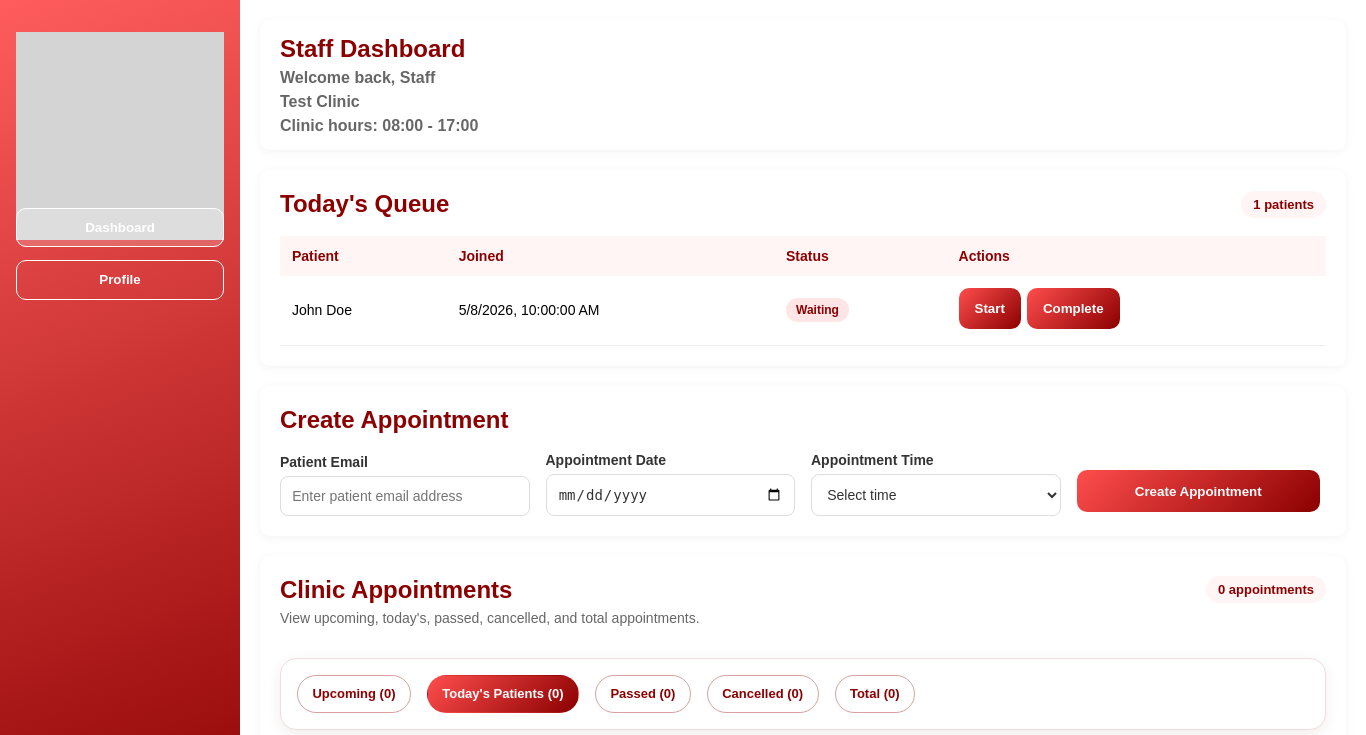
Scenario: StaffDashboard › shows queue update error message
Expected: the text "John Doe" is shown, [280, 276, 447, 345]
What coordinates should you click on to do the following:
click the button "Start"
I would click on:
 (990, 308)
Its box is [958, 288, 1021, 329].
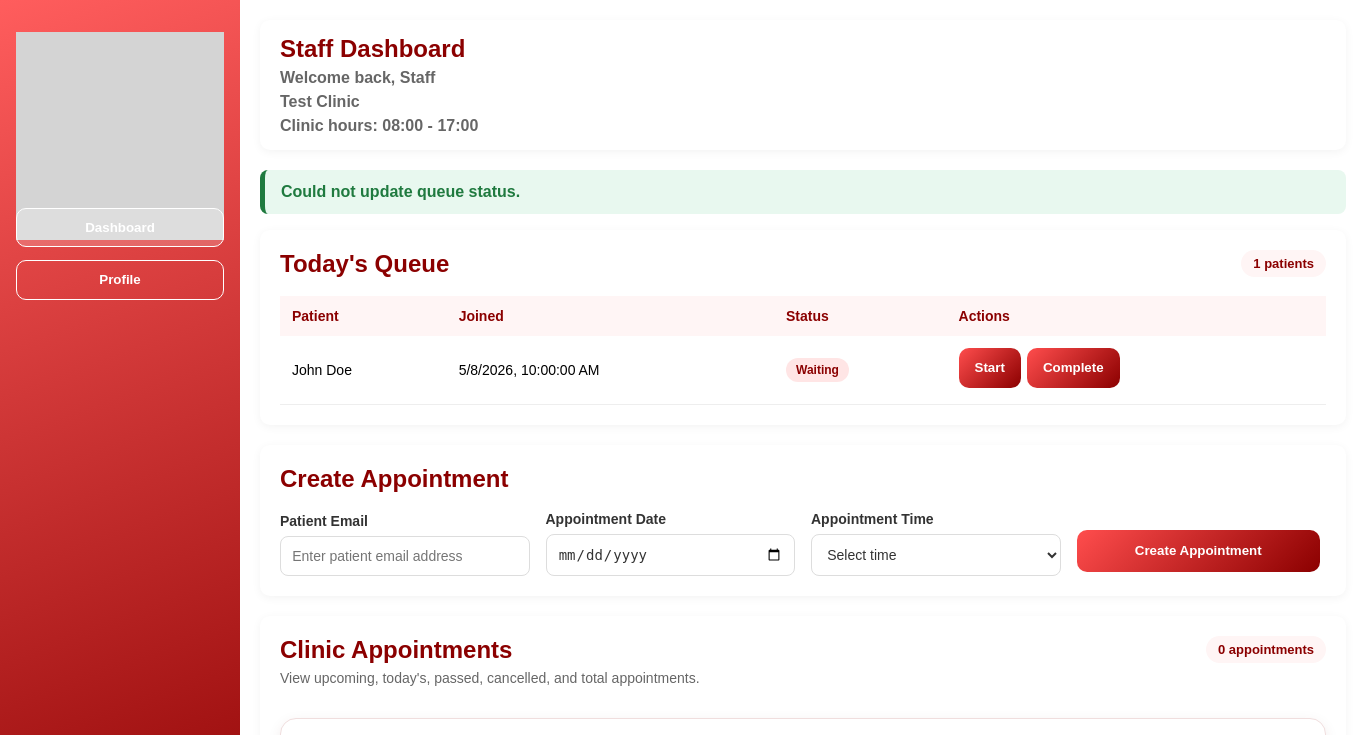
Expected: the text "Could not update queue status." is shown, [260, 170, 1346, 214]
